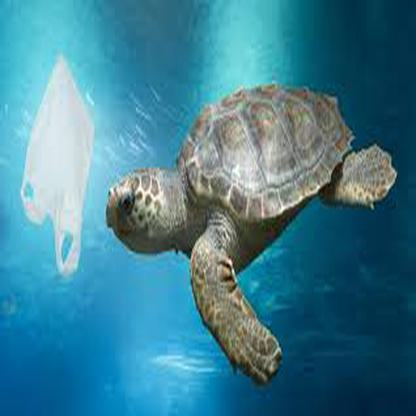plastic bag: (18, 61, 95, 277)
